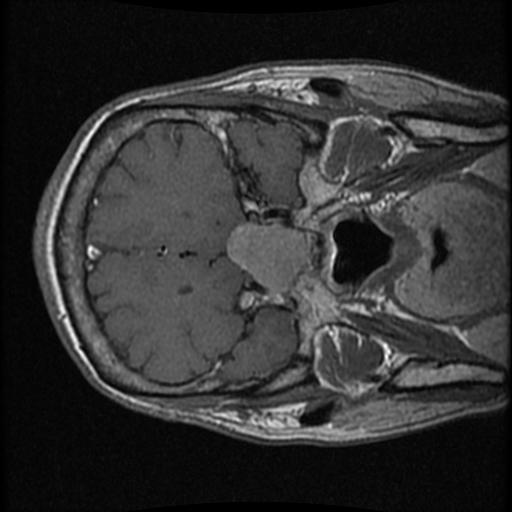pituitary tumour: (227, 225, 306, 296)
